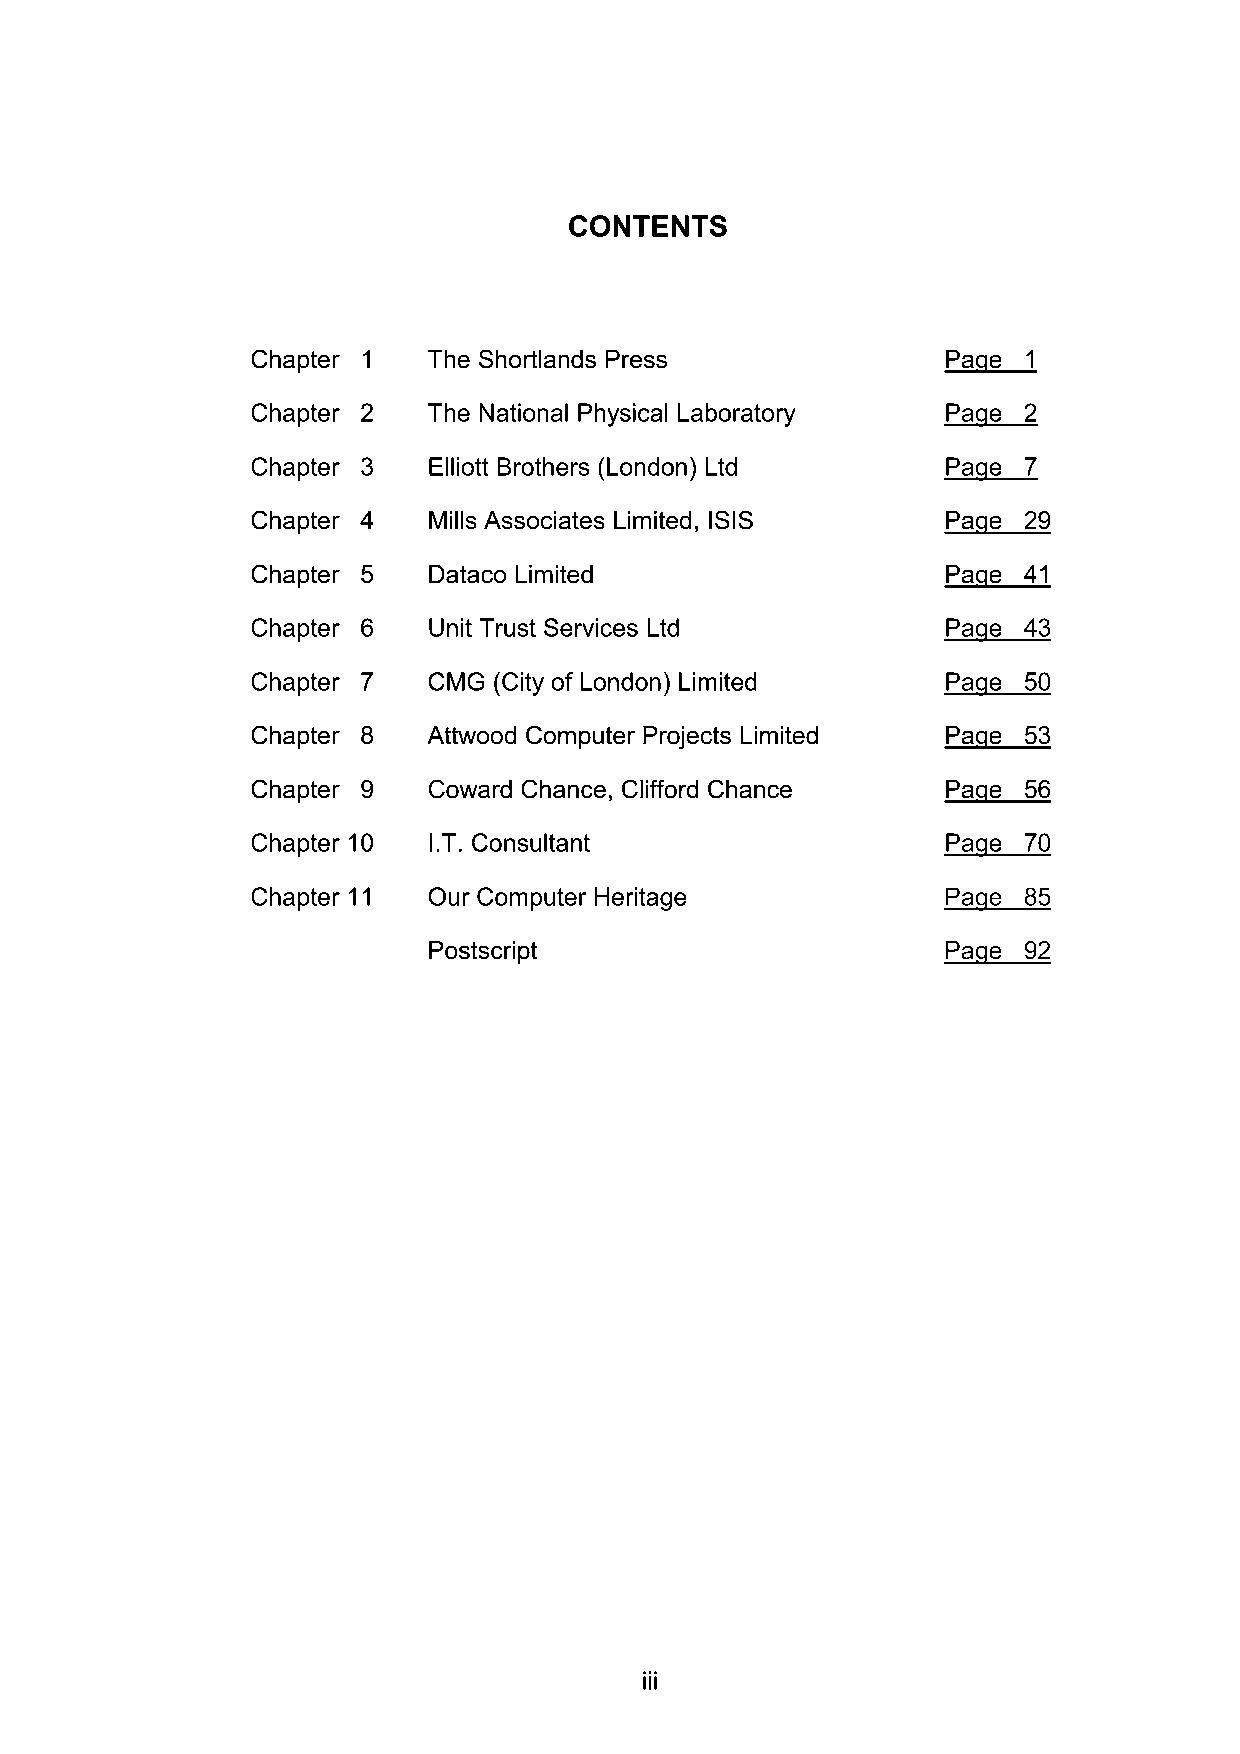TOC_chapter: (251, 770, 793, 803), (250, 718, 819, 747), (246, 397, 796, 427), (250, 506, 756, 534), (247, 452, 739, 480), (250, 666, 758, 692), (247, 882, 688, 911), (246, 342, 670, 370), (250, 613, 683, 639), (246, 557, 593, 585), (247, 828, 590, 856), (425, 935, 539, 962)
TOC_pagenumber: (939, 448, 1041, 483), (942, 392, 1040, 428), (939, 506, 1053, 535), (939, 560, 1053, 589), (943, 883, 1053, 913), (939, 776, 1053, 804), (943, 935, 1052, 965), (943, 722, 1053, 750), (943, 831, 1053, 858), (939, 345, 1039, 374), (943, 615, 1052, 641), (939, 670, 1053, 695)
chapter: (565, 209, 731, 242)
content_pagenumber: (636, 1668, 666, 1694)
